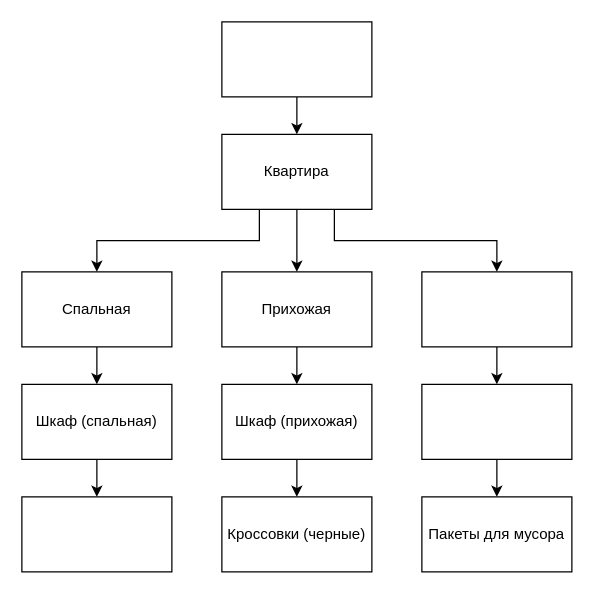
Image size: 594x594. Some labels were removed from this diagram. The shapes that lost their labels are listed below. From the top down, each one's box as (x1, y1, x2, y2) in pixels, then its label:
(221, 21, 372, 97): корень пользователя (обязательный узел)
(421, 271, 572, 347): Кухня
(421, 383, 572, 459): Гарнитур
(21, 496, 172, 572): Одеяло
